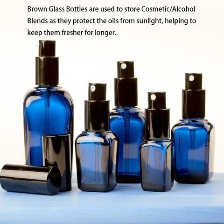bottle: (18, 53, 73, 195), (104, 76, 152, 186), (169, 84, 219, 185), (72, 95, 120, 194), (137, 104, 173, 196)
